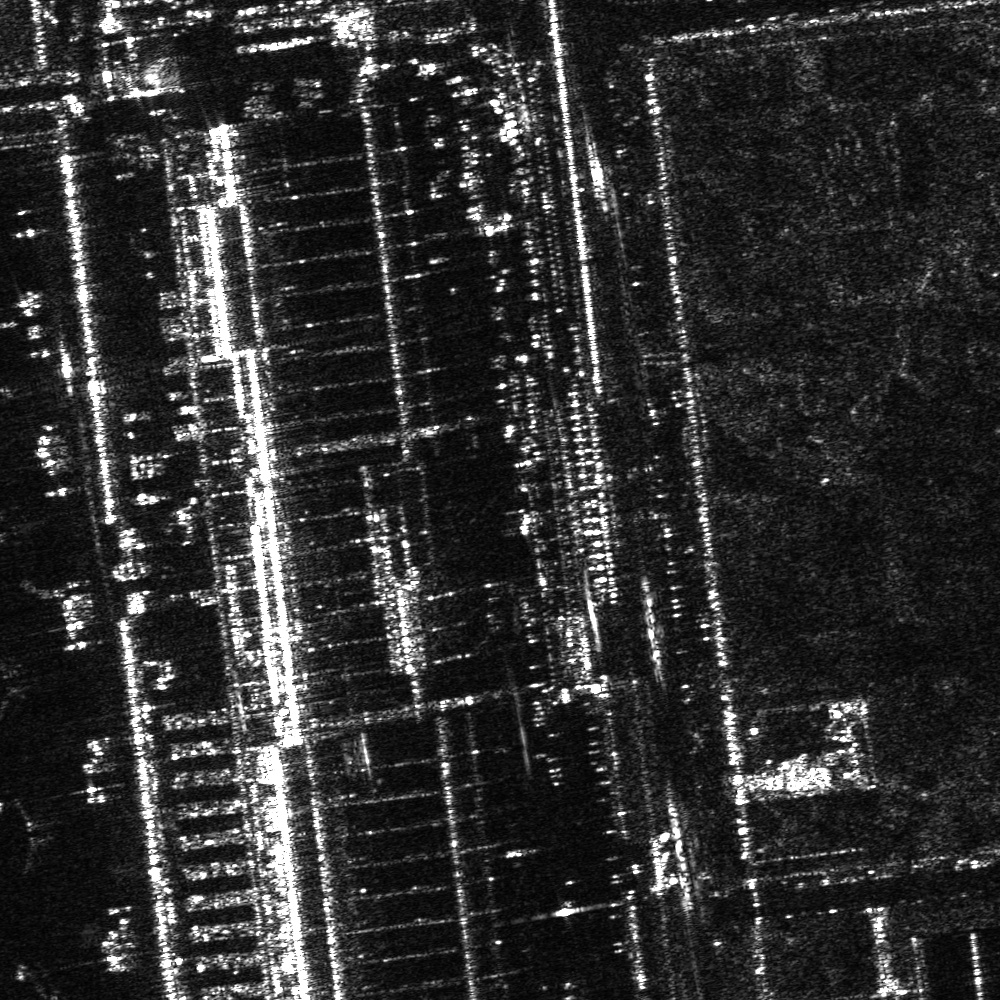Boeing787: (1, 797, 63, 880), (1, 964, 73, 999)
